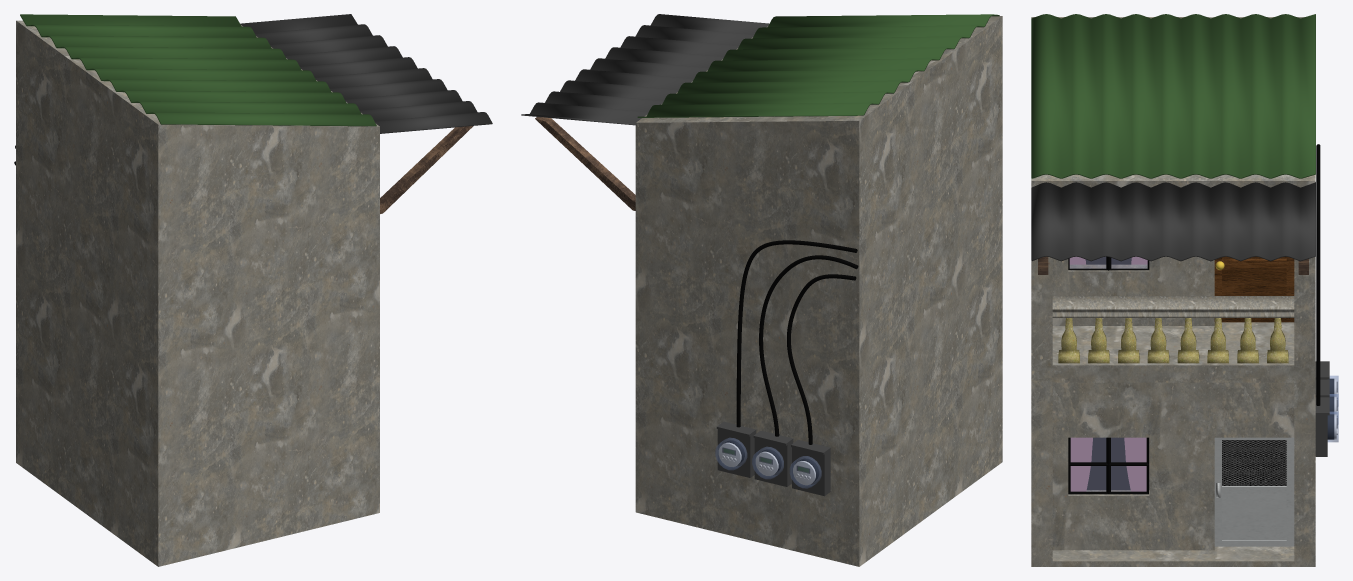
The model's file is House_1.fbx.
3 views of the same model, side by side, from view 1: azimuth 30°, elevation 25°; view 2: azimuth 150°, elevation 25°; view 3: azimuth 270°, elevation 25° (orthographic).
Visible parts, largest first — view 1: House, Roof_1, Roof_2, Roof Support; view 2: House, Roof_1, Roof_2, Electric Meter.002, Electric Meter.001, Electric Meter, Roof Support, Meter Wire, Meter Wire.001, Meter Wire.002; view 3: House, Roof_1, Roof_2, Entrance Door, Pillars, Ledge, Entrance Glass, Balcony Door, Entrance Door Grids, Entrance Curtain, Meter Wire, Entrance Window Frame (+4 smaller).
Part boxes in pixels (bbox=[...]): House: bbox=[16, 20, 379, 566]; Roof_1: bbox=[20, 14, 376, 126]; Roof_2: bbox=[240, 14, 492, 133]; Roof Support: bbox=[380, 126, 473, 213]; House: bbox=[635, 16, 1002, 566]; Roof_1: bbox=[637, 14, 999, 117]; Roof_2: bbox=[521, 14, 769, 125]; Electric Meter.002: bbox=[789, 439, 830, 496]; Electric Meter.001: bbox=[752, 430, 793, 486]; Electric Meter: bbox=[715, 421, 756, 477]; Roof Support: bbox=[535, 117, 635, 210]; Meter Wire: bbox=[736, 240, 857, 427]; Meter Wire.001: bbox=[759, 255, 858, 436]; Meter Wire.002: bbox=[787, 274, 856, 444]; House: bbox=[1031, 17, 1315, 566]; Roof_1: bbox=[1031, 14, 1315, 178]; Roof_2: bbox=[1031, 182, 1315, 261]; Entrance Door: bbox=[1214, 437, 1294, 546]; Pillars: bbox=[1058, 318, 1288, 363]; Ledge: bbox=[1052, 296, 1294, 317]; Entrance Glass: bbox=[1071, 438, 1146, 491]; Balcony Door: bbox=[1214, 256, 1294, 322]; Entrance Door Grids: bbox=[1222, 440, 1286, 485]; Entrance Curtain: bbox=[1070, 437, 1146, 491]; Meter Wire: bbox=[1316, 144, 1320, 405]; Entrance Window Frame: bbox=[1068, 437, 1148, 494].
Size of the model in its own units: 1901 by 2425 by 1510.
